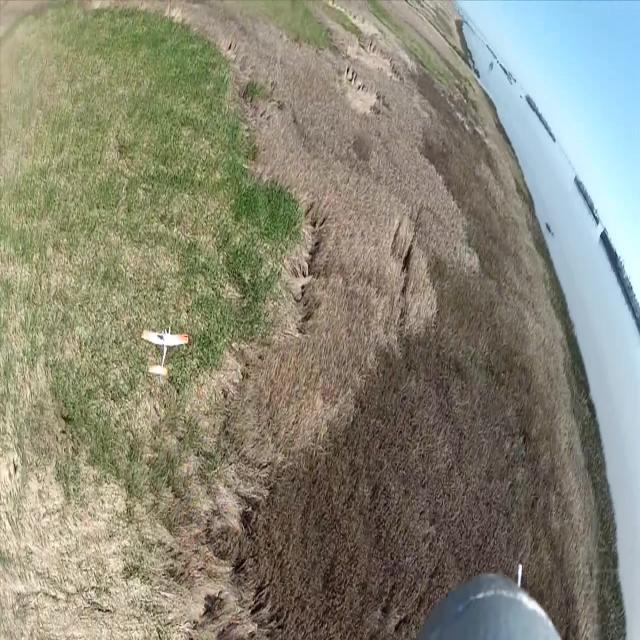iha: (140, 324, 191, 378)
